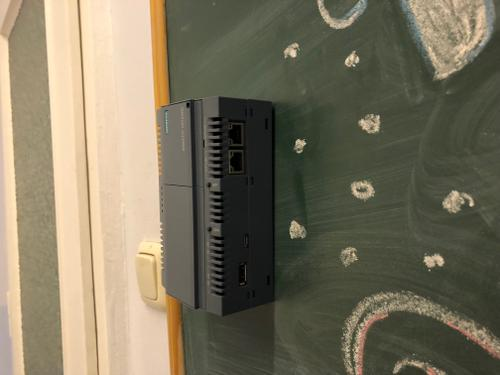device: (156, 95, 274, 316)
